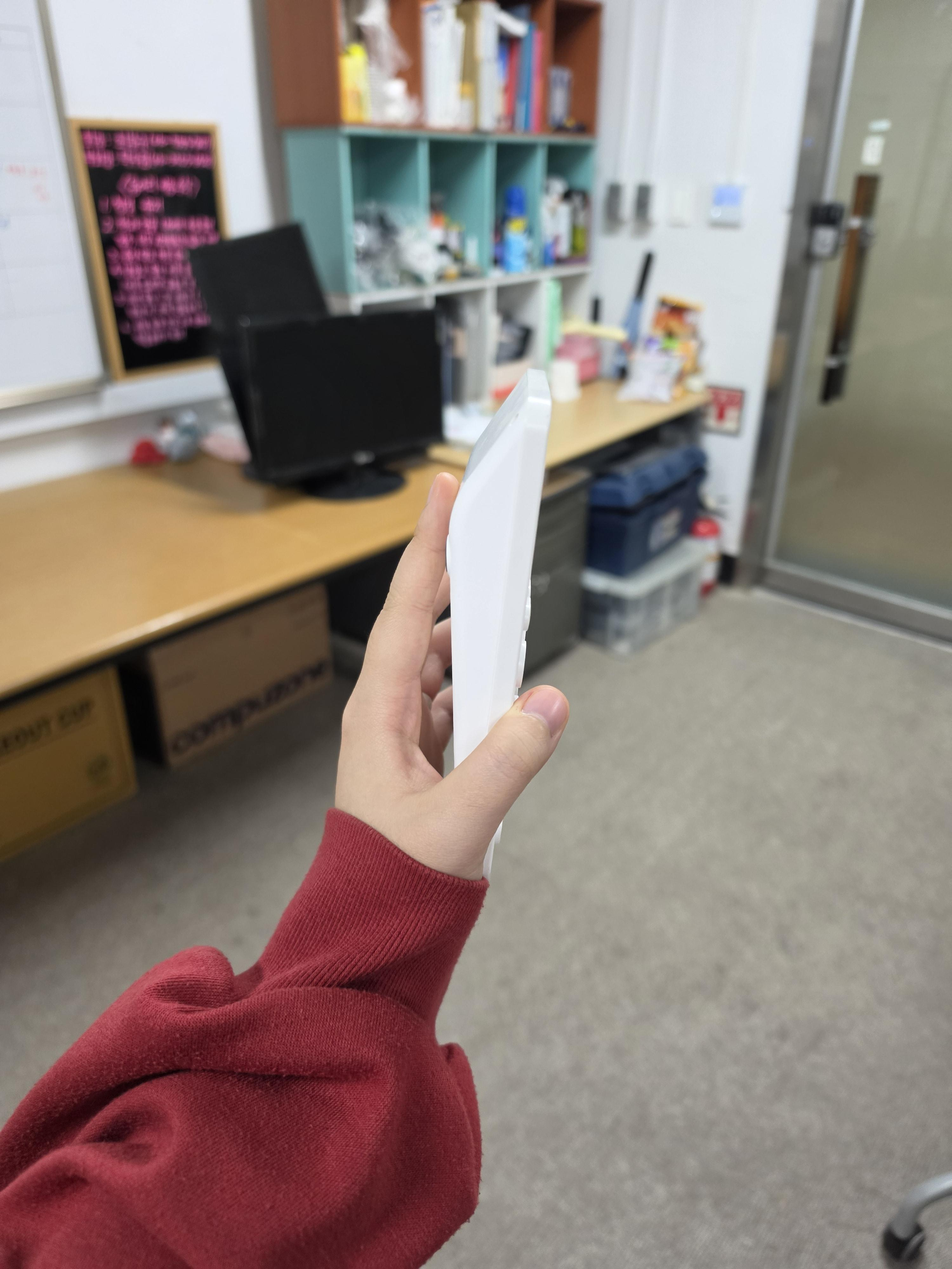calculator: (446, 369, 552, 880)
